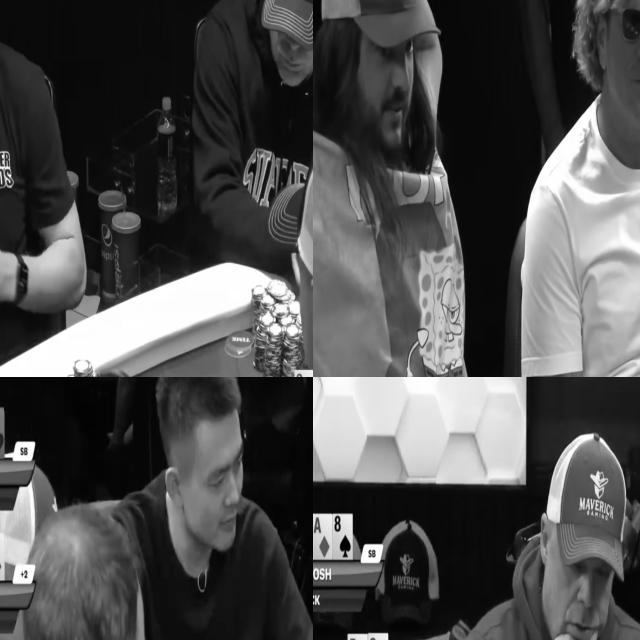8S: (332, 515, 352, 560)
9D: (294, 369, 313, 377)
AD: (313, 514, 332, 557)
